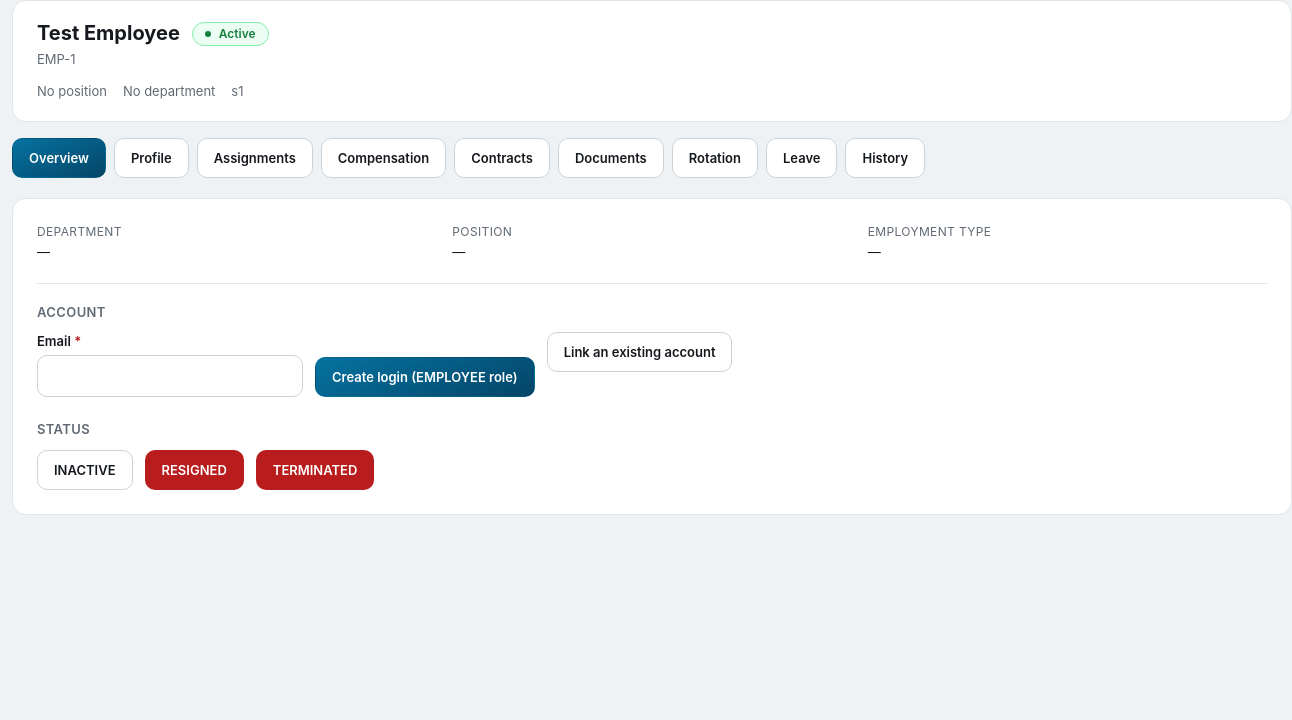
Contracts tab — required draft metadata › a rejected finalization surfaces the server's reason instead of failing silently
This screenshot has width=1292, height=720.
Check: the heading "Test Employee" is shown, box [37,21,180,46]
Click the button "Contracts".
click(502, 158)  # box [454,138,550,178]
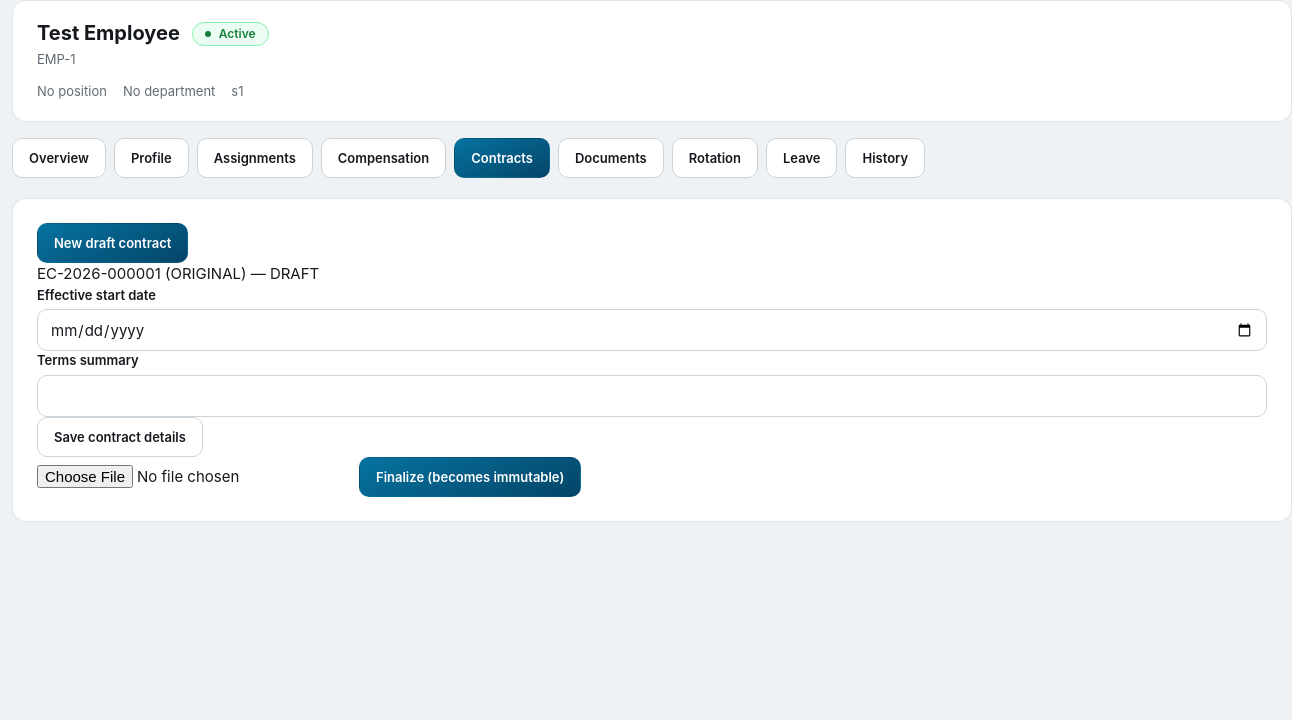
Check: the text "EC-2026-000001 (ORIGINAL) — DRAFT" is shown, box [37,264,319,283]
Click the button "Finalize (becomes immutable)".
click(470, 476)  # box [359,456,581,496]
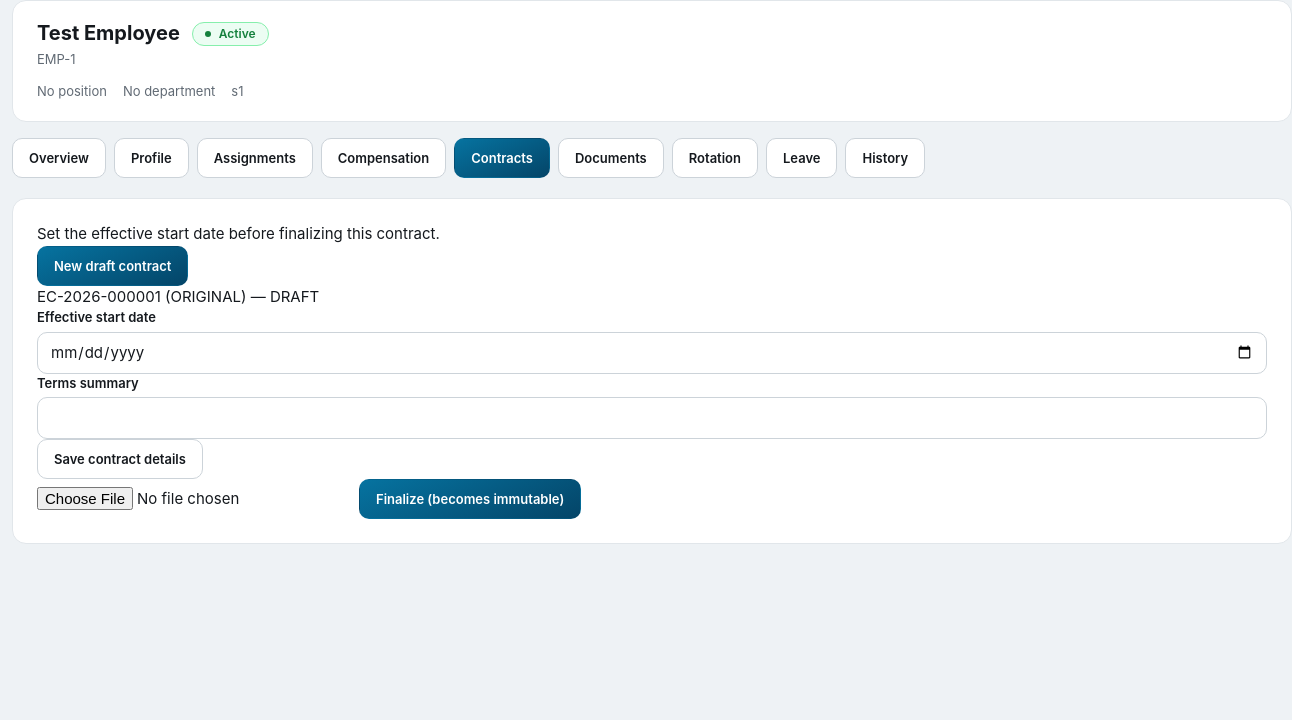
Check: the text "EC-2026-000001 (ORIGINAL) — DRAFT" is shown, box [37,286,319,306]
Check: the message shows "effective start date before finalizing", box [37,224,440,243]
